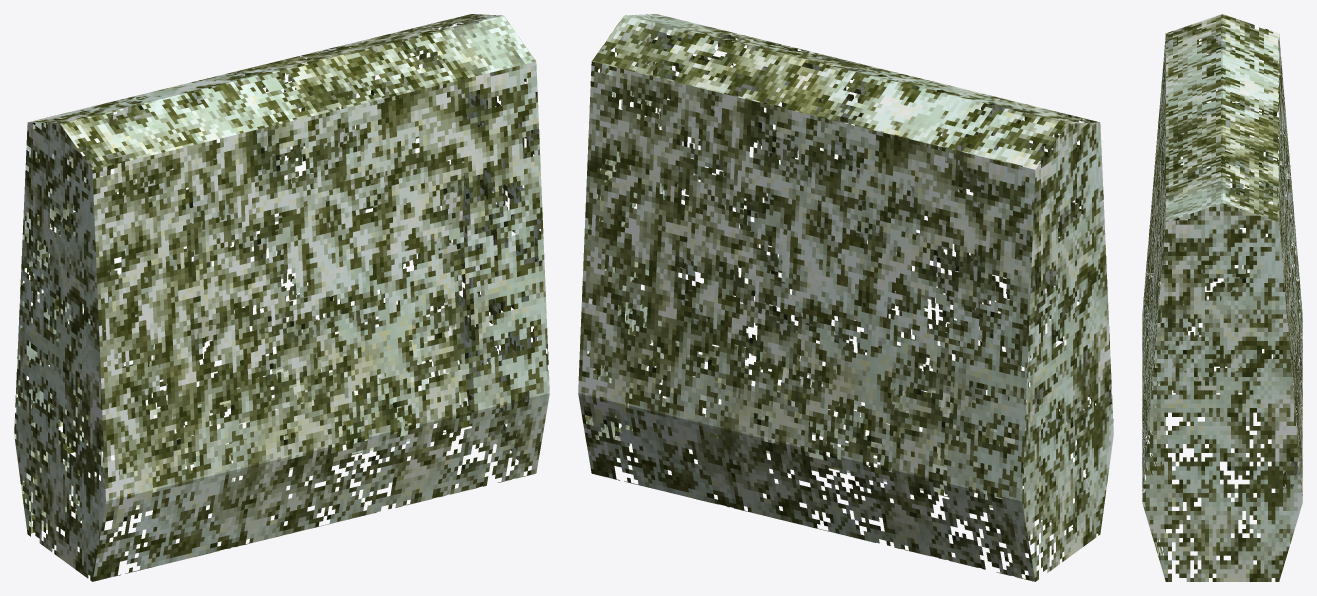
The model's file is bush_tall_winter.glb.
3 renders of one model, left to right at view 1: azimuth 30°, elevation 25°; view 2: azimuth 150°, elevation 25°; view 3: azimuth 270°, elevation 25°, orthographic. The views are drawn at different scales.
Parts seen in each view (by area): view 1: bush_tall_winter; view 2: bush_tall_winter; view 3: bush_tall_winter.
Part boxes in pixels (<box>): bush_tall_winter: <box>14,14,549,581</box>; bush_tall_winter: <box>578,14,1113,581</box>; bush_tall_winter: <box>1142,14,1302,581</box>.
Bounding box in the file's own units: 2.01 × 1.88 × 0.7191.
Materials: 1 (1 with a texture image).
